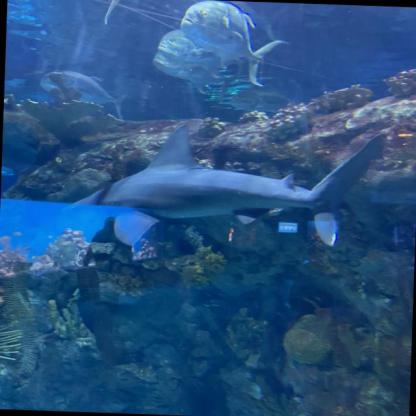fish: (178, 0, 284, 87), (42, 69, 126, 121), (152, 29, 230, 79), (22, 0, 163, 27), (1, 163, 15, 178)
shark: (60, 119, 385, 249)
